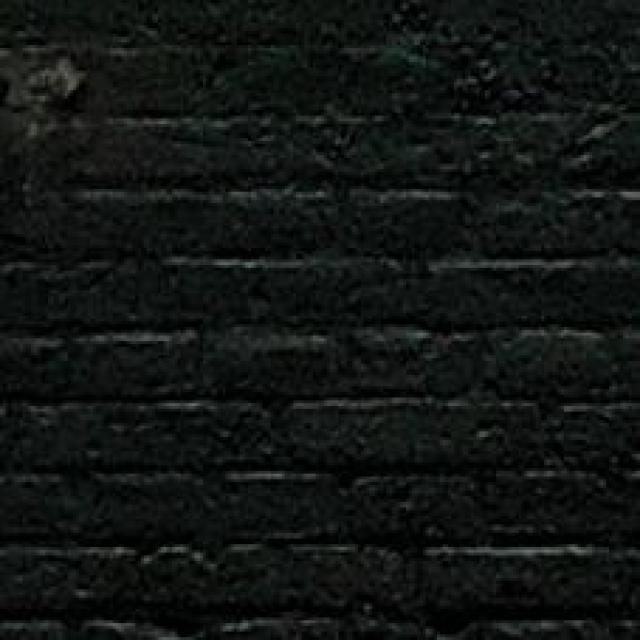Crack: (149, 0, 640, 251)
